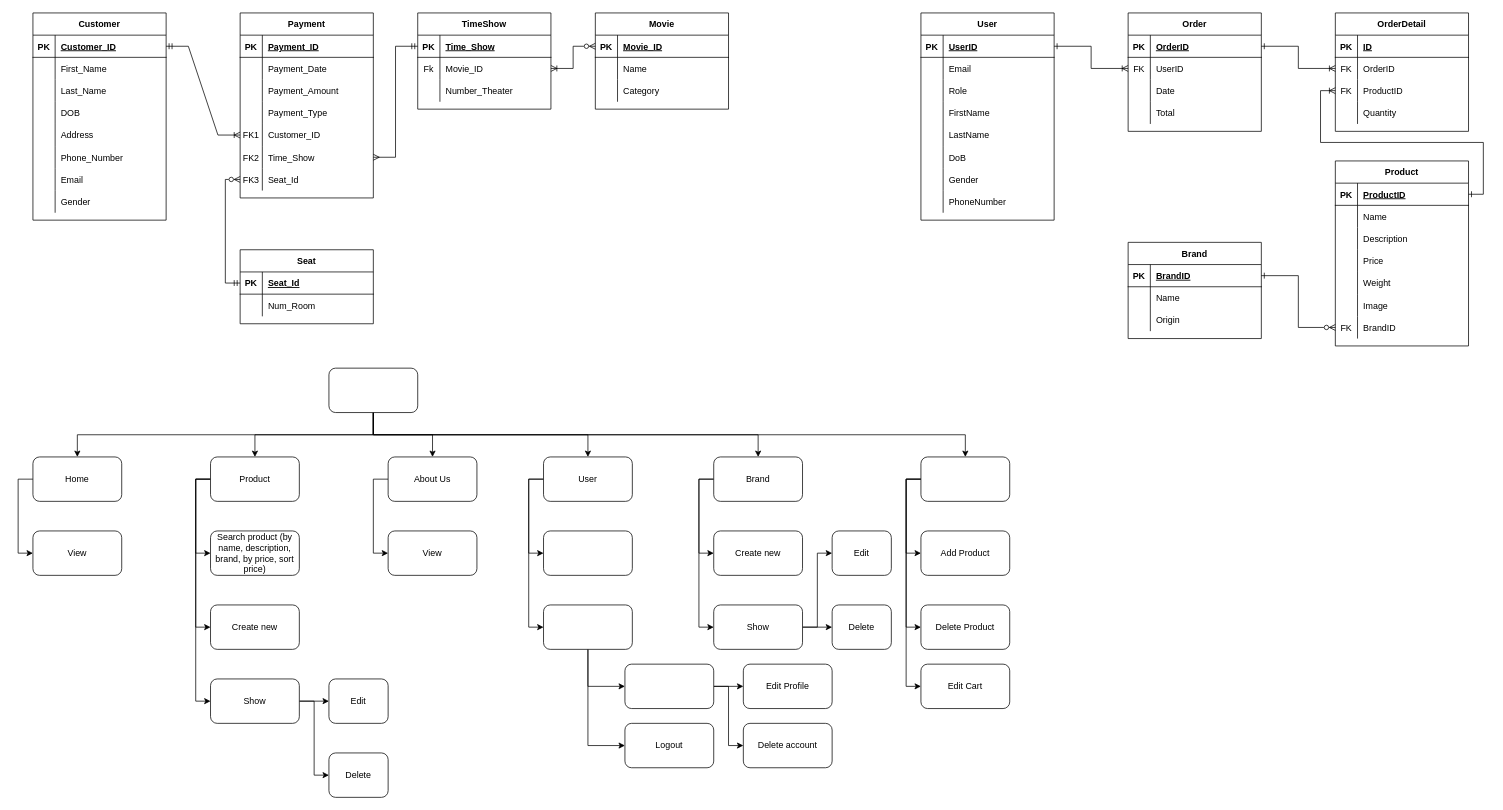
Some shapes in this 1503 by 810 pixel diagram are drawn without their labels. The centre of each missing label's shape, as x and y in pixels:
"Cart" goes at [965,478].
"Login" goes at [587,626].
"Registration" goes at [587,552].
"Show Profile" goes at [669,686].
"Tech Shop" goes at [373,390].
